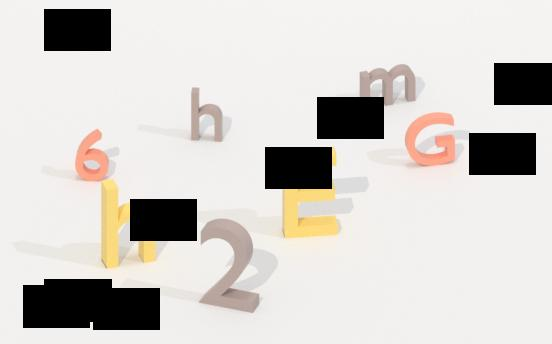2: (197, 214, 261, 319)
6: (74, 127, 114, 183)
E-hoa: (281, 145, 340, 242)
G-hoa: (397, 111, 463, 165)
h: (100, 180, 160, 271), (186, 81, 233, 150)
m: (356, 64, 418, 110)
